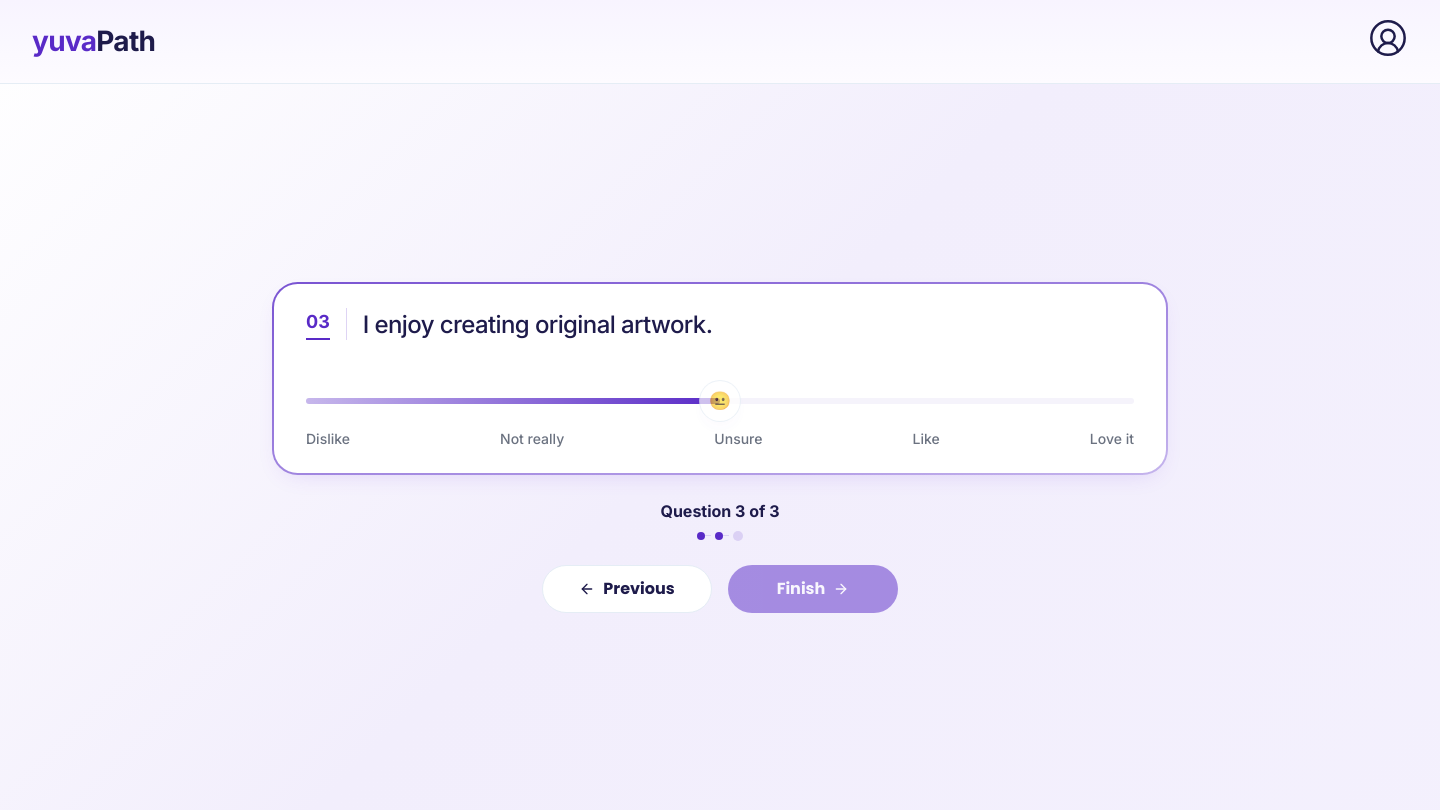
RiasecAssessmentPage › editing a past answer re-submits the new value and continues from the review point, not the true frontier
The width and height of the screenshot is (1440, 810).
Expected: the text "I enjoy creating original artwork." is shown, [363,310,712,338]
Click the button "Previous" at (627, 588), box [542,564,712,612]
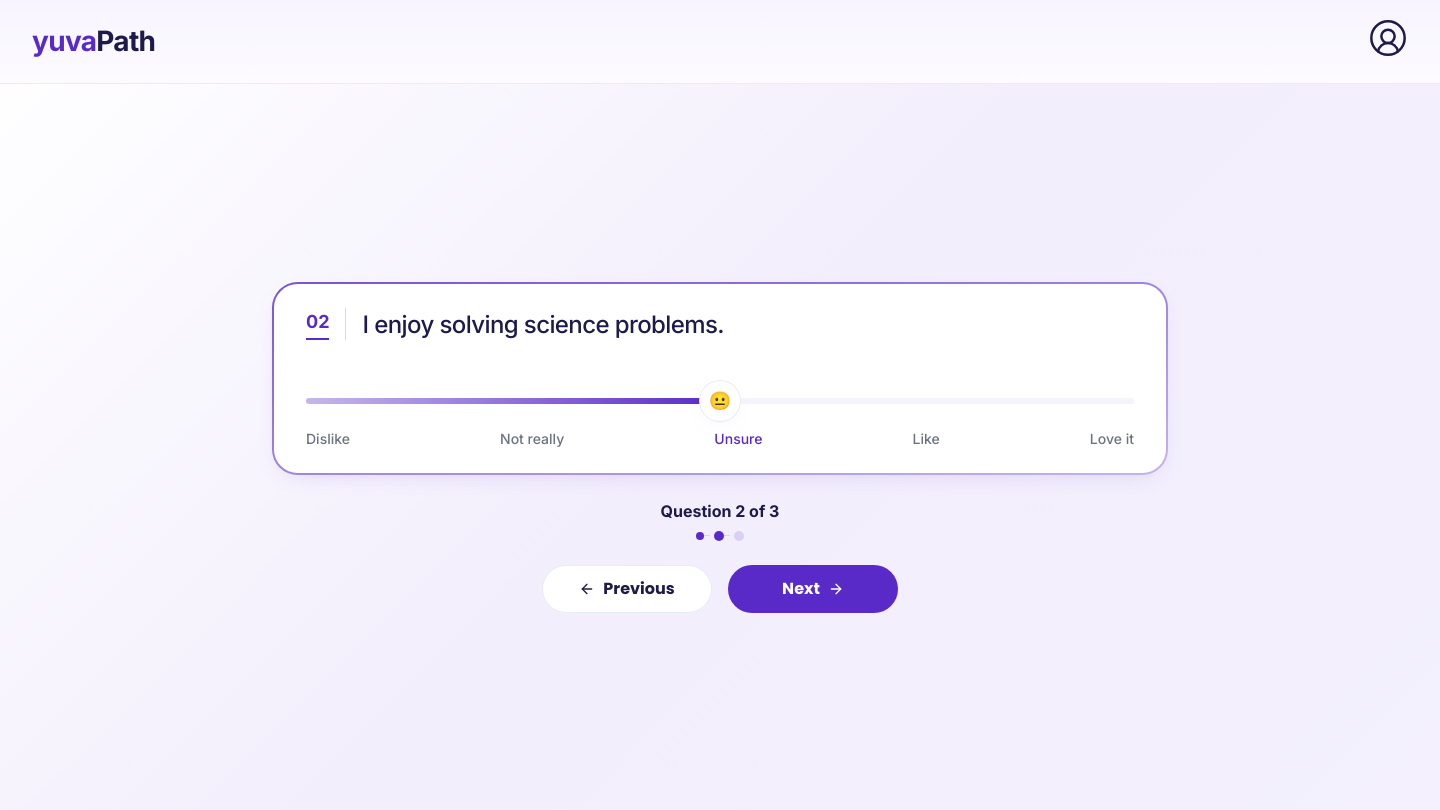
Click the button "Previous" at (627, 588), box [542,564,712,612]
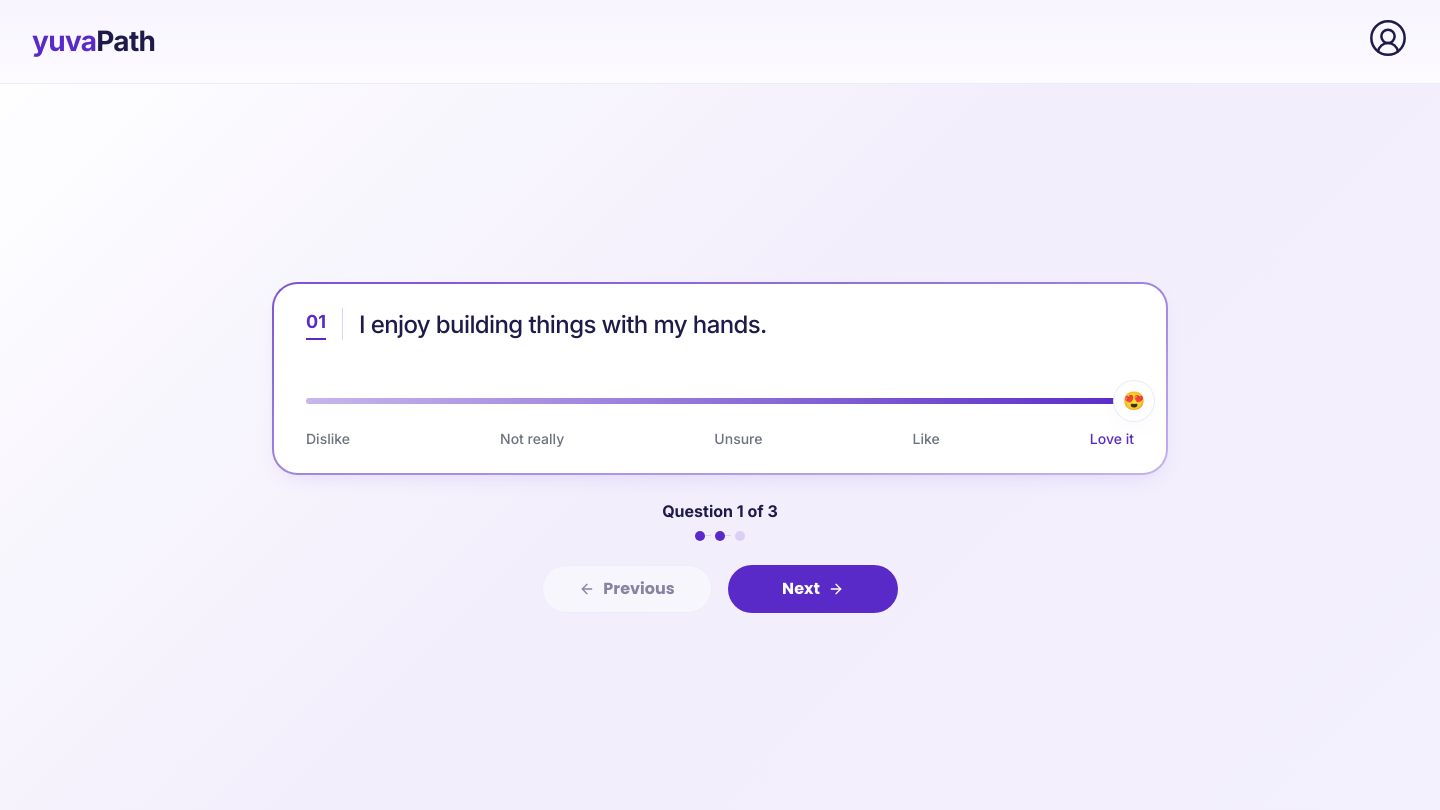
Expected: the text "I enjoy building things with my hands." is shown, [359,310,767,338]
Click the button "Dislike" at (328, 438), box [306,428,350,448]
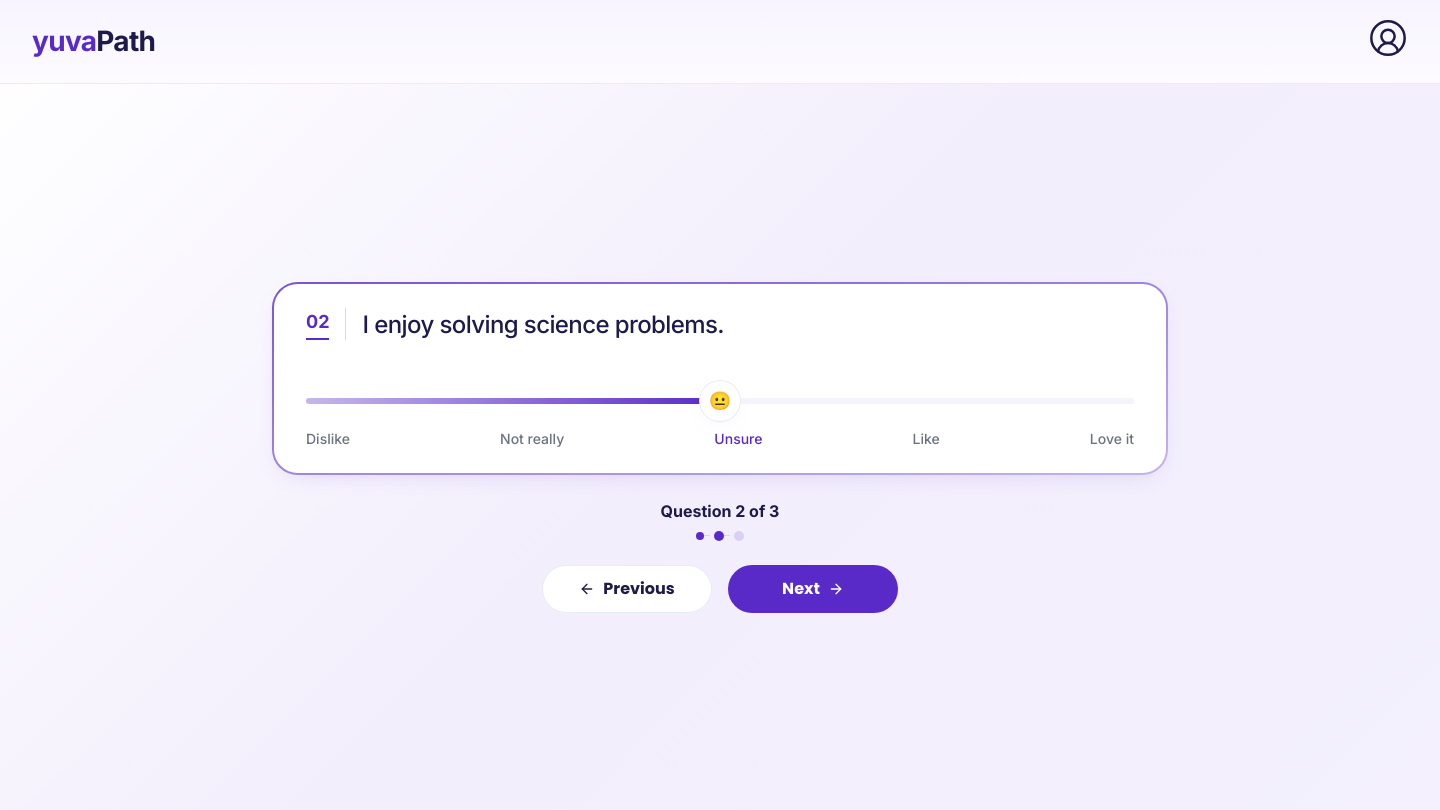
Expected: the text "I enjoy solving science problems." is shown, [362,310,724,338]
Expected: the text "Question 2 of 3" is shown, [661,498,779,522]
